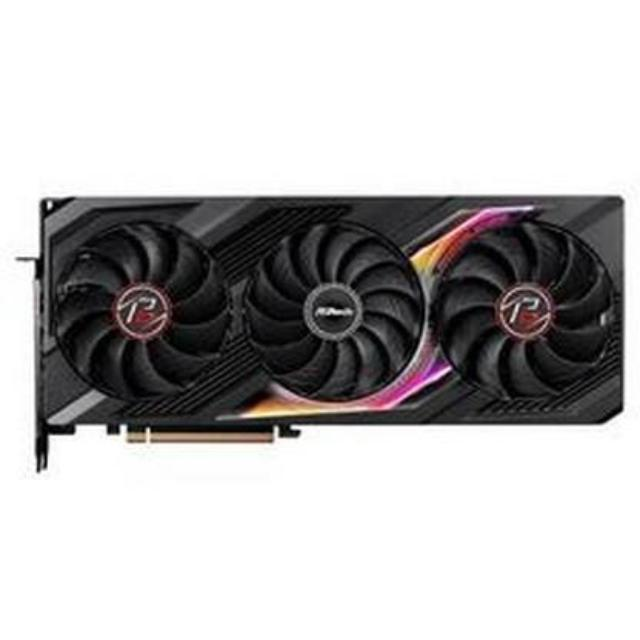GPU: (32, 180, 630, 455)
